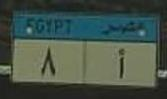8: (39, 45, 58, 79)
alif: (114, 46, 128, 81)
